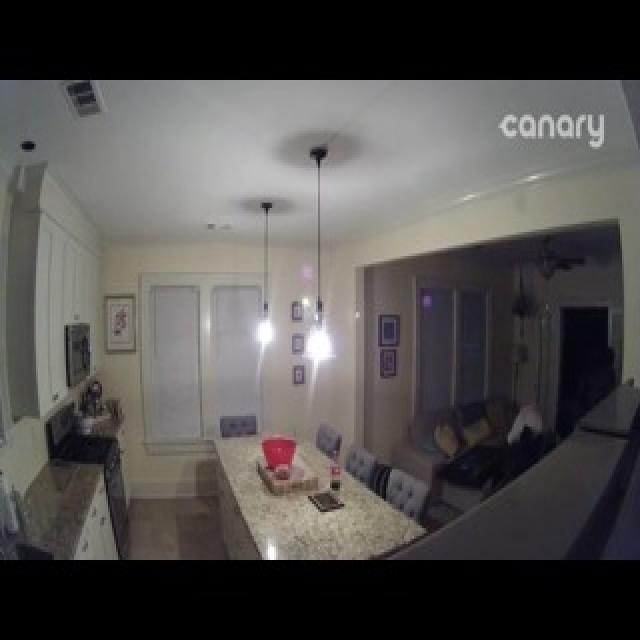thief: (502, 399, 548, 446)
